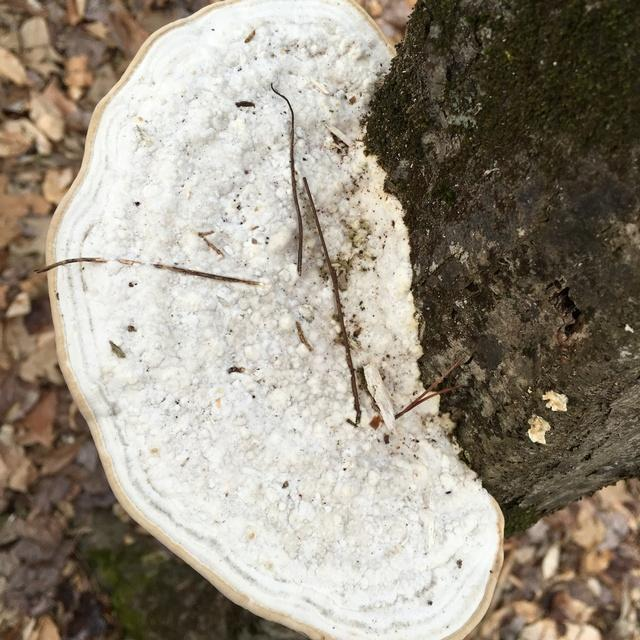poisonous_mushroom: (38, 0, 507, 638)
